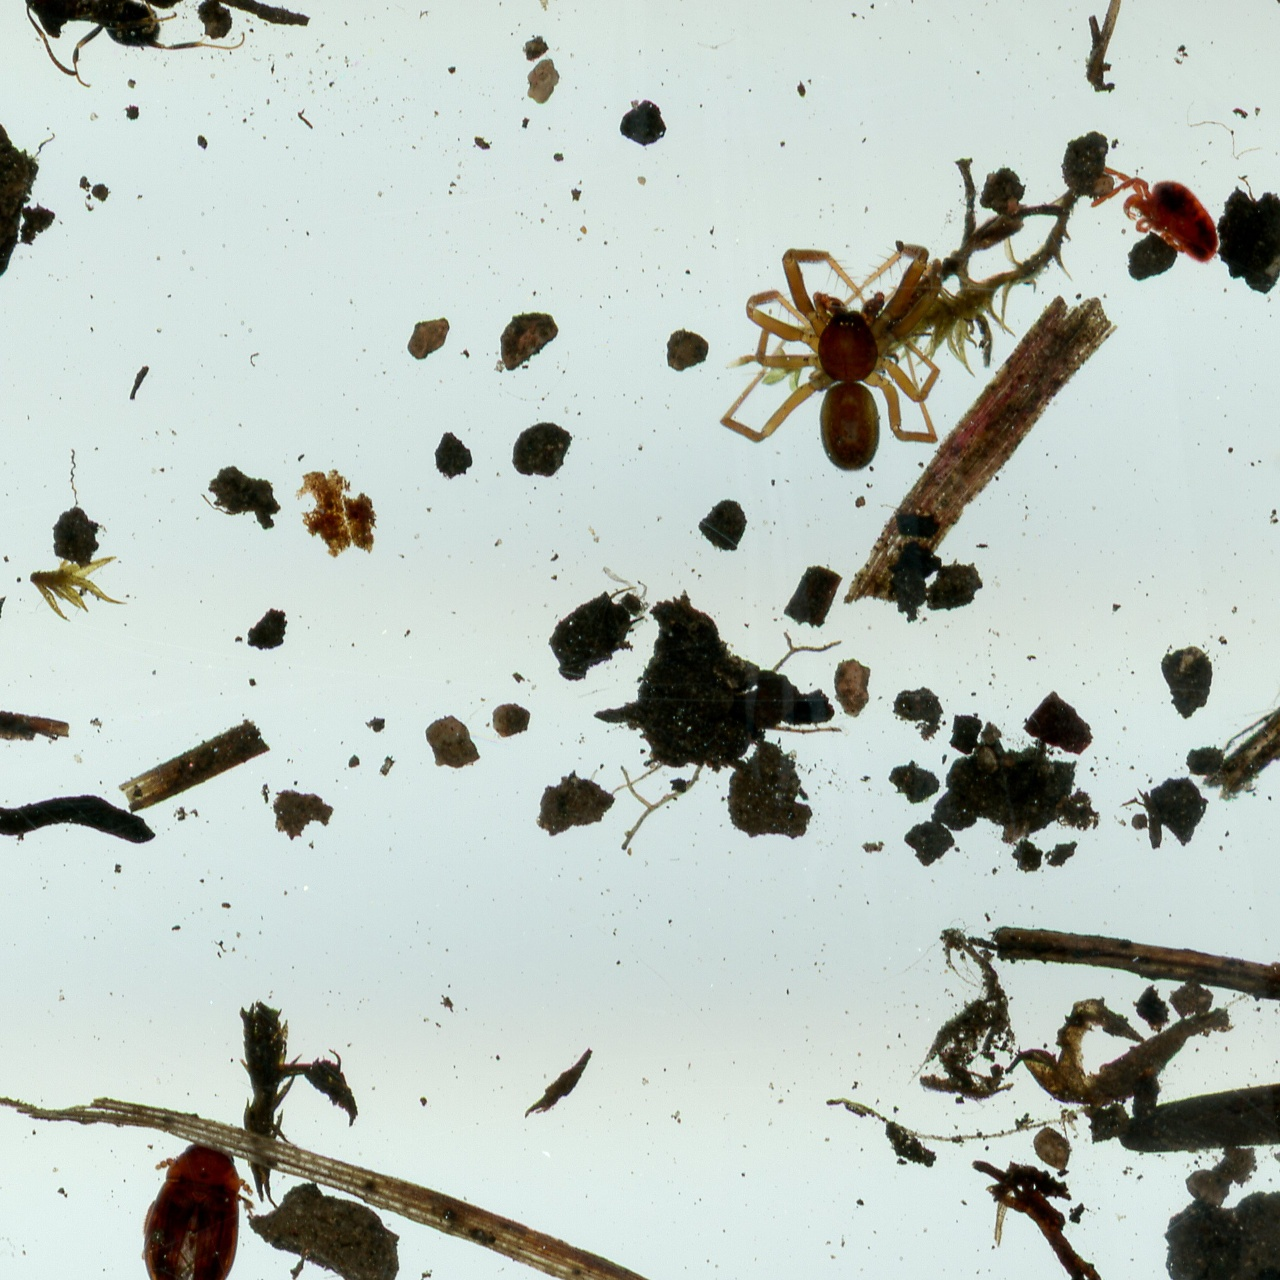arthropod: (715, 240, 945, 476), (115, 1129, 274, 1280), (15, 0, 254, 91), (1086, 157, 1222, 270)
